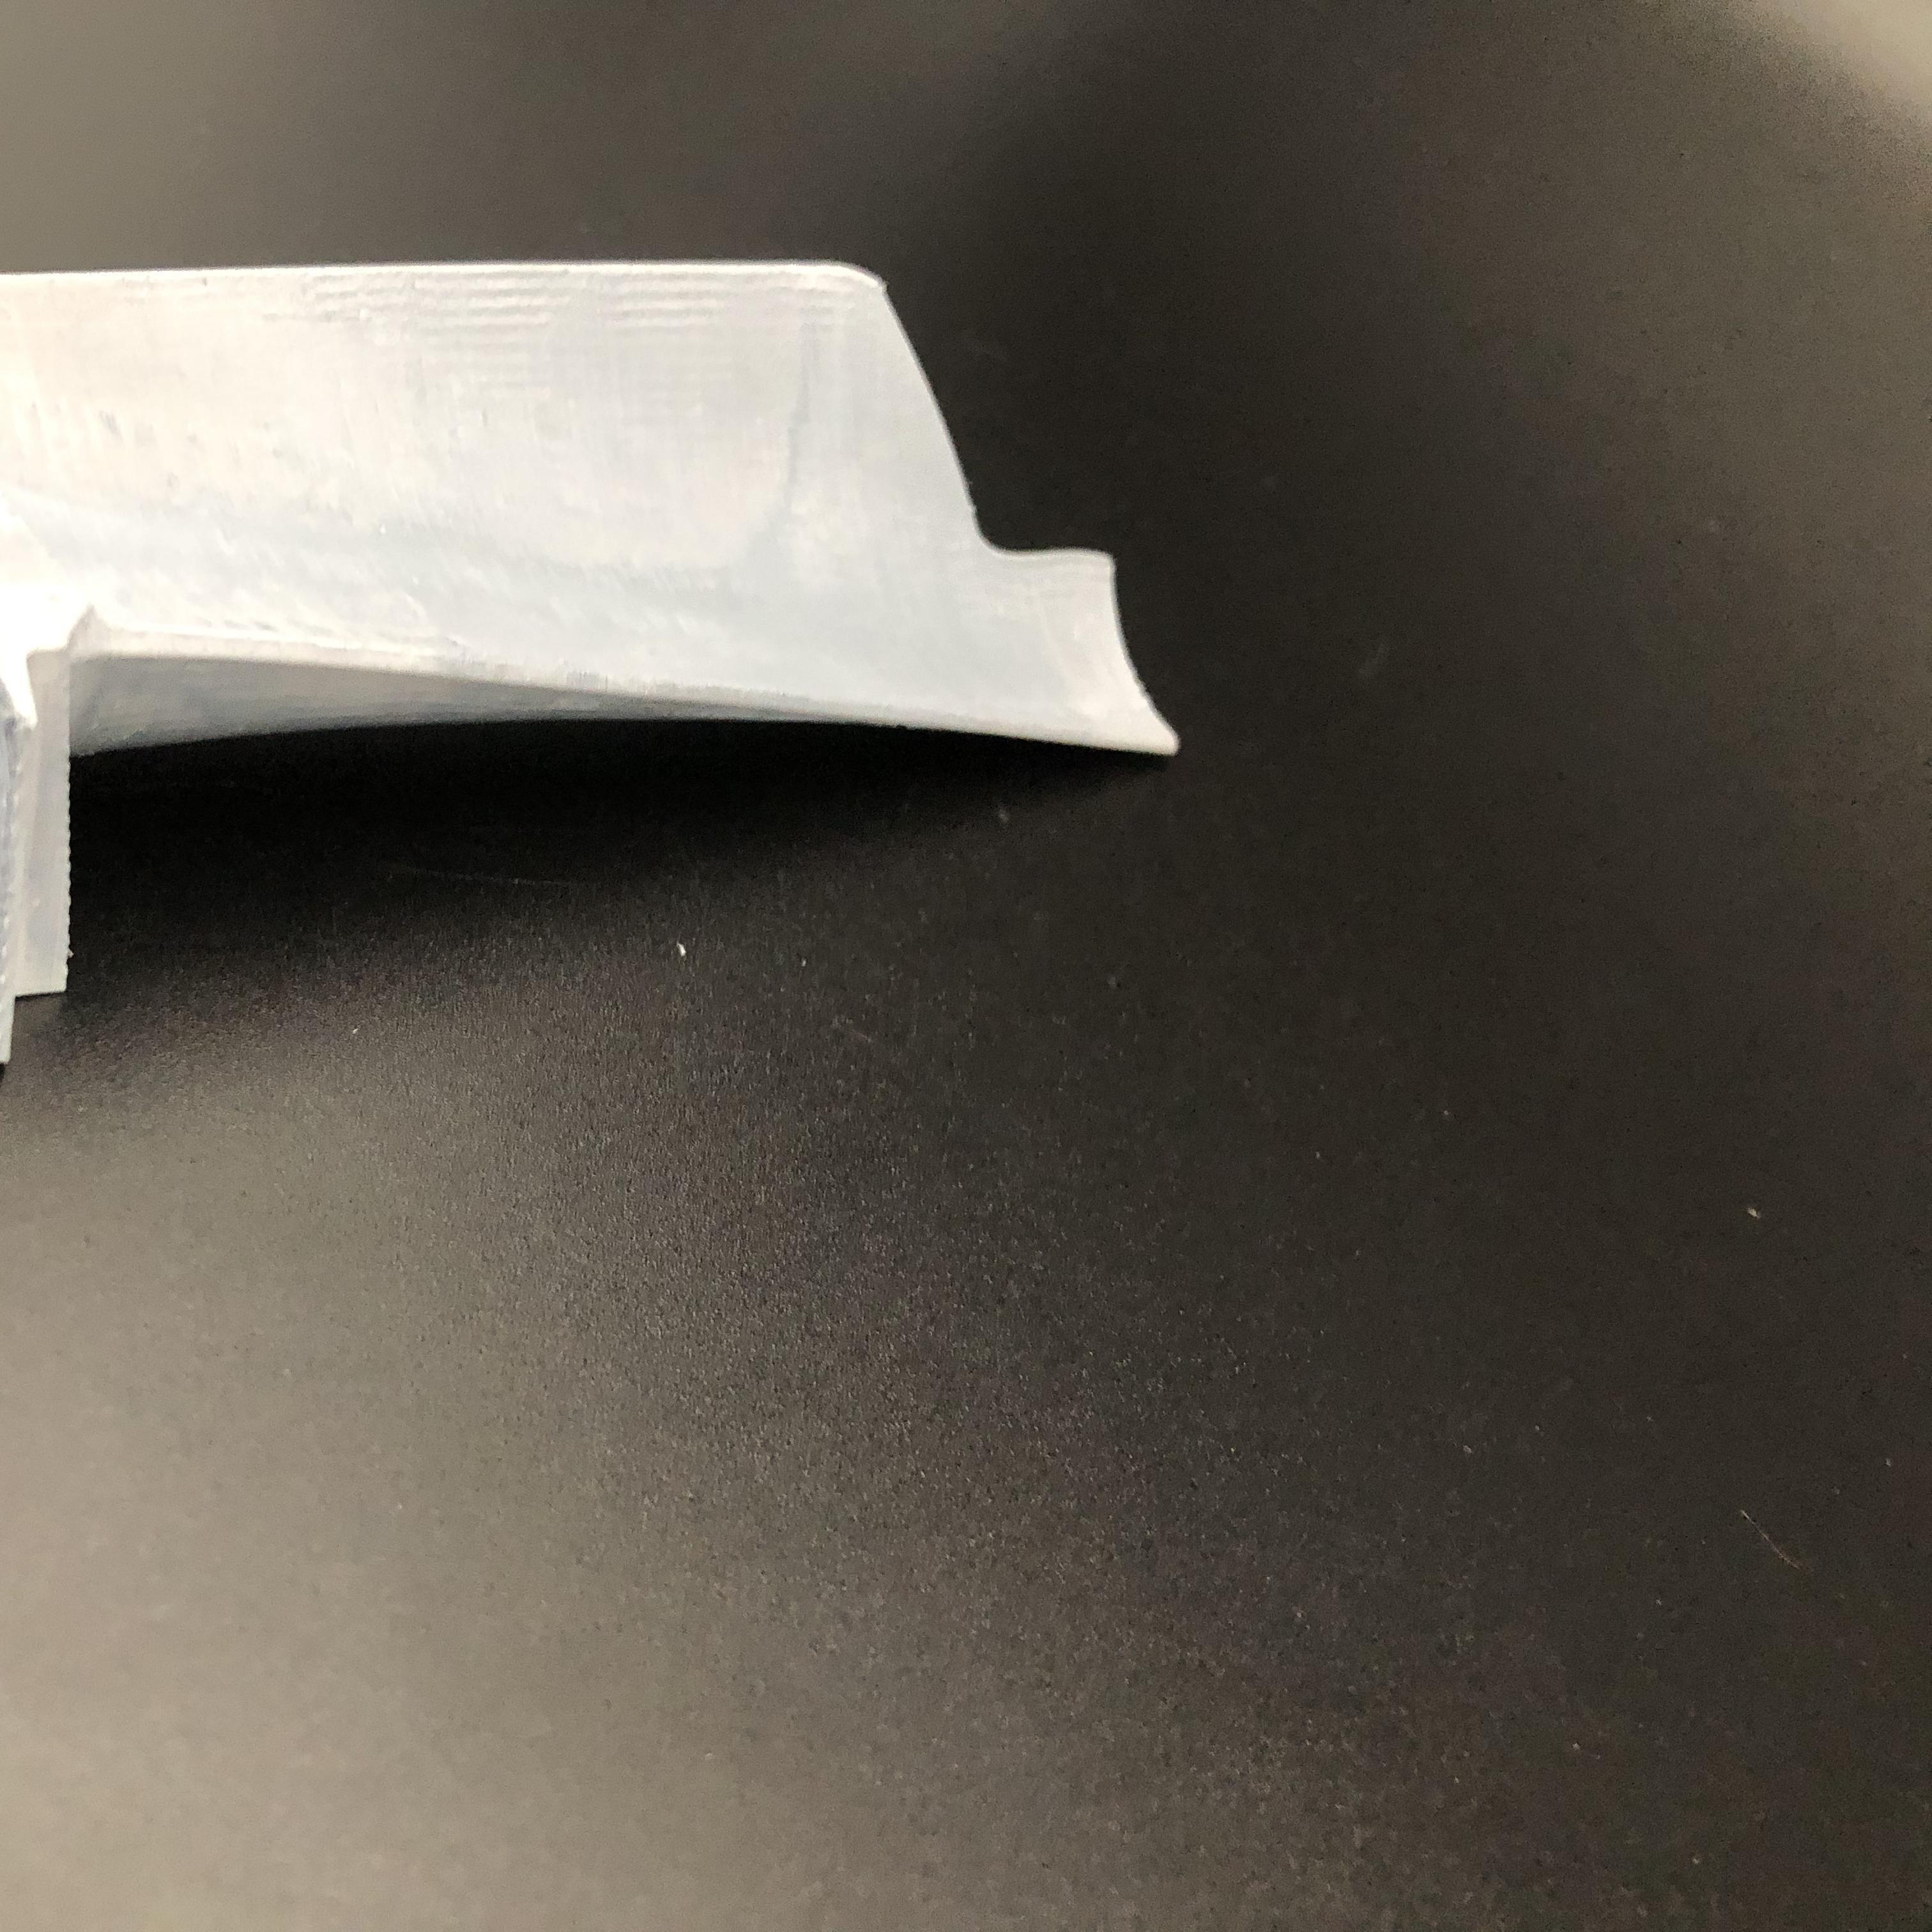fracture: (869, 262, 1139, 584)
